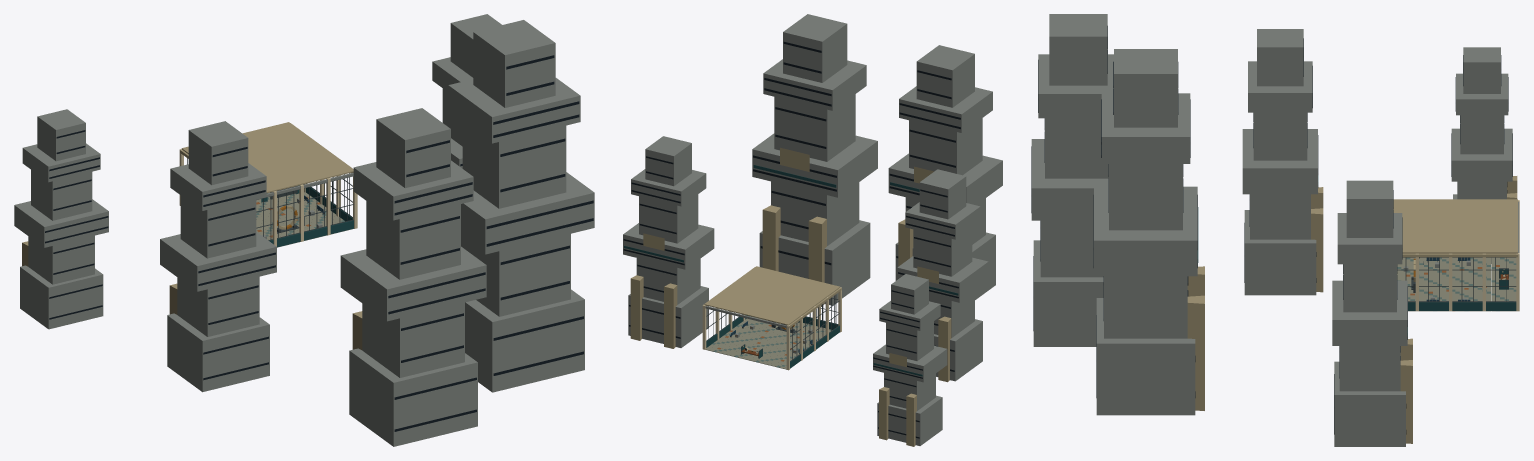
File: assembled_base_geometry.obj
3 renders of one model, left to right at view 1: azimuth 30°, elevation 25°; view 2: azimuth 150°, elevation 25°; view 3: azimuth 270°, elevation 25°, orthographic. The views are drawn at different scales.
Parts seen in each view (by area): view 1: Megablock_25__megablock_mass, Megablock_-10__megablock_mass, Megablock_-35__megablock_mass, Megablock_-50__megablock_mass, HallStructure__ceiling, Megablock_25__rear_window_band, Megablock_45__megablock_mass, Megablock_-10__rear_window_band, HallFloor__floor_tiles, Megablock_-35__rear_window_band, Megablock_-50__rear_window_band, HallStructure__rear_piers (+2 smaller); view 2: Megablock_25__megablock_mass, Megablock_-10__megablock_mass, Megablock_45__megablock_mass, Megablock_-35__megablock_mass, Megablock_-50__megablock_mass, HallStructure__ceiling, HallFloor__floor_tiles, Megablock_25__buttress, Megablock_25__front_window_band, Megablock_45__buttress, HallStructure__side_piers, Megablock_-50__buttress (+9 smaller); view 3: Megablock_25__megablock_mass, Megablock_-10__megablock_mass, Megablock_45__megablock_mass, Megablock_-35__megablock_mass, Megablock_-50__megablock_mass, HallStructure__ceiling, HallFloor__floor_tiles, Megablock_25__buttress, Megablock_-35__buttress, Megablock_45__buttress, HallStructure__side_piers, HallStructure__side_dado (+2 smaller).
Boxes of the visible parts, x1,y1,x2,y2 form: Megablock_25__megablock_mass: [448, 20, 594, 392]; Megablock_-10__megablock_mass: [340, 108, 486, 446]; Megablock_-35__megablock_mass: [160, 121, 276, 392]; Megablock_-50__megablock_mass: [14, 109, 108, 329]; HallStructure__ceiling: [181, 122, 353, 193]; Megablock_25__rear_window_band: [486, 55, 593, 375]; Megablock_45__megablock_mass: [432, 14, 501, 168]; Megablock_-10__rear_window_band: [388, 140, 485, 431]; HallFloor__floor_tiles: [256, 192, 353, 247]; Megablock_-35__rear_window_band: [198, 147, 275, 380]; Megablock_-50__rear_window_band: [45, 130, 108, 319]; HallStructure__rear_piers: [272, 178, 330, 246]; Megablock_25__megablock_mass: [752, 14, 877, 305]; Megablock_-10__megablock_mass: [888, 45, 1002, 299]; Megablock_45__megablock_mass: [623, 136, 714, 347]; Megablock_-35__megablock_mass: [897, 169, 988, 381]; Megablock_-50__megablock_mass: [873, 274, 947, 445]; HallStructure__ceiling: [704, 266, 840, 325]; HallFloor__floor_tiles: [705, 316, 832, 369]; Megablock_25__buttress: [762, 205, 826, 306]; Megablock_25__front_window_band: [753, 41, 836, 265]; Megablock_45__buttress: [630, 275, 677, 348]; HallStructure__side_piers: [702, 287, 841, 370]; Megablock_-50__buttress: [879, 387, 916, 446]; Megablock_25__megablock_mass: [1094, 49, 1197, 415]; Megablock_-10__megablock_mass: [1031, 14, 1113, 346]; Megablock_45__megablock_mass: [1332, 180, 1407, 446]; Megablock_-35__megablock_mass: [1242, 29, 1317, 295]; Megablock_-50__megablock_mass: [1451, 47, 1512, 263]; HallStructure__ceiling: [1393, 199, 1517, 253]; HallFloor__floor_tiles: [1397, 257, 1516, 311]; Megablock_25__buttress: [1187, 266, 1204, 410]; Megablock_-35__buttress: [1311, 187, 1323, 292]; Megablock_45__buttress: [1400, 338, 1412, 443]; HallStructure__side_piers: [1415, 200, 1519, 311]; HallStructure__side_dado: [1408, 302, 1516, 310].
Bounding box in the file's own units: 114 × 81.4 × 109.
